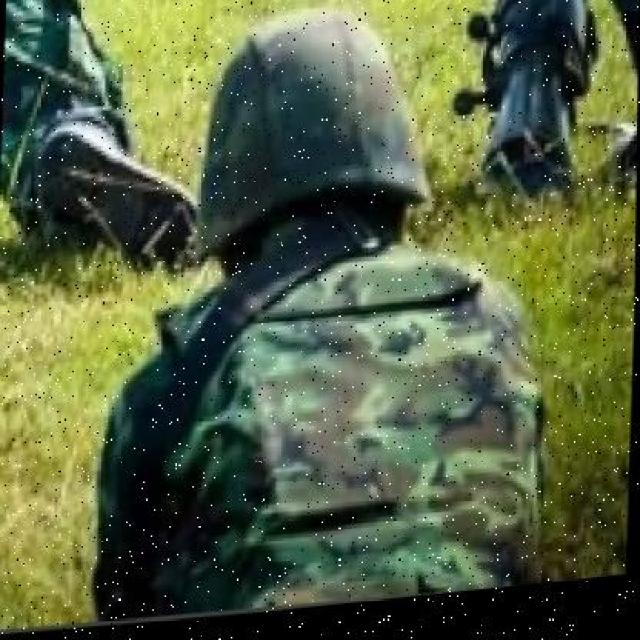MIL_Pax: (175, 13, 494, 625), (5, 0, 140, 257)
